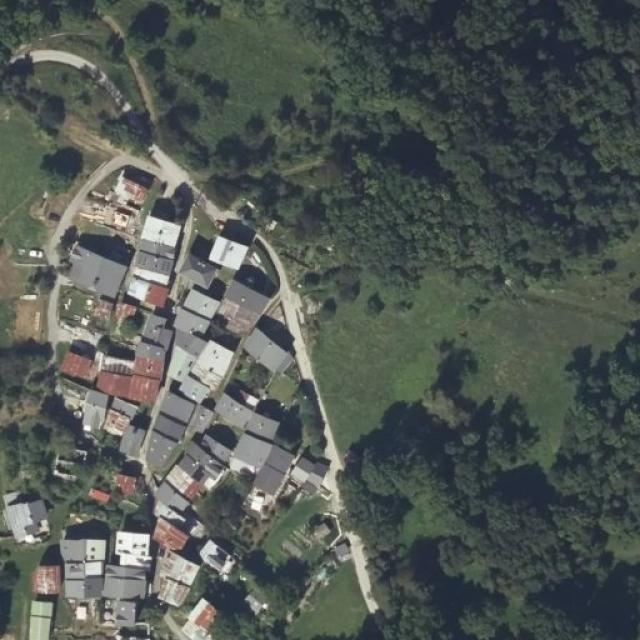maison: (211, 445, 335, 512), (162, 389, 288, 438), (177, 268, 275, 317), (168, 323, 236, 390), (76, 393, 144, 459), (99, 337, 163, 406), (57, 239, 125, 298), (153, 518, 196, 608), (0, 480, 50, 546), (152, 449, 205, 508), (109, 534, 150, 605), (60, 533, 104, 599), (188, 232, 248, 280), (242, 327, 292, 372), (202, 529, 246, 580), (114, 280, 172, 316), (126, 248, 177, 284), (89, 474, 135, 509), (181, 600, 220, 640), (30, 556, 64, 599), (138, 217, 189, 244)
usine: (89, 178, 143, 242), (53, 338, 95, 386)
